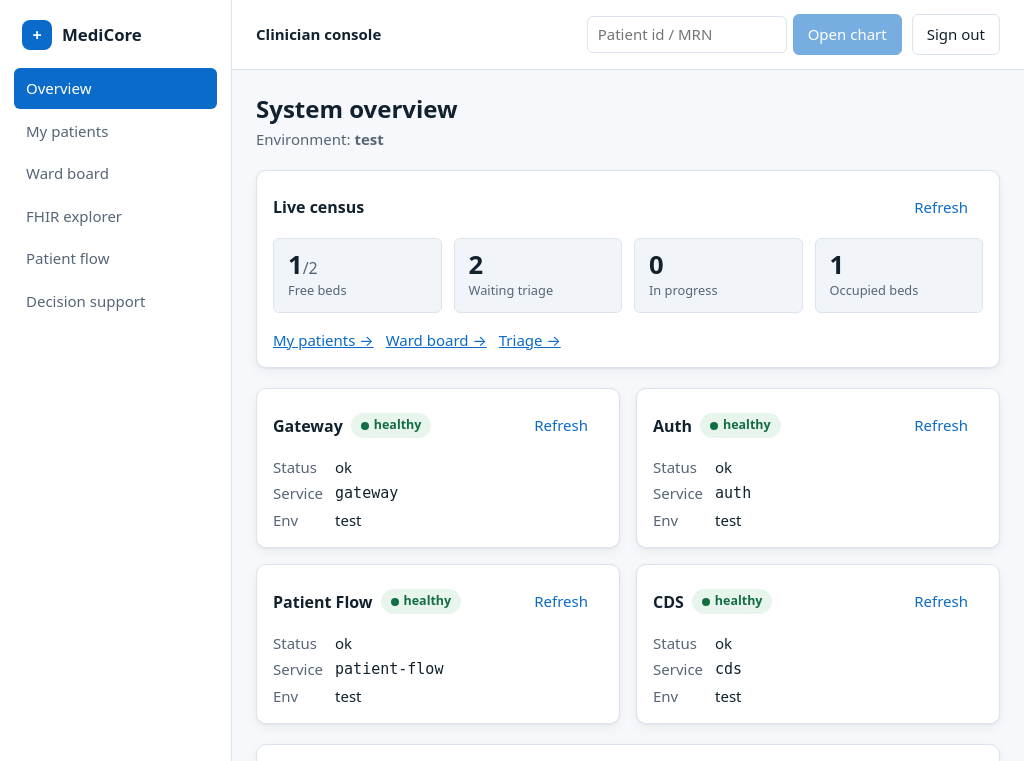
Test: navigation › signs out and returns to the login page
The image size is (1024, 761).
Click the button "Sign out" at (956, 34), box [912,14,1000,54]
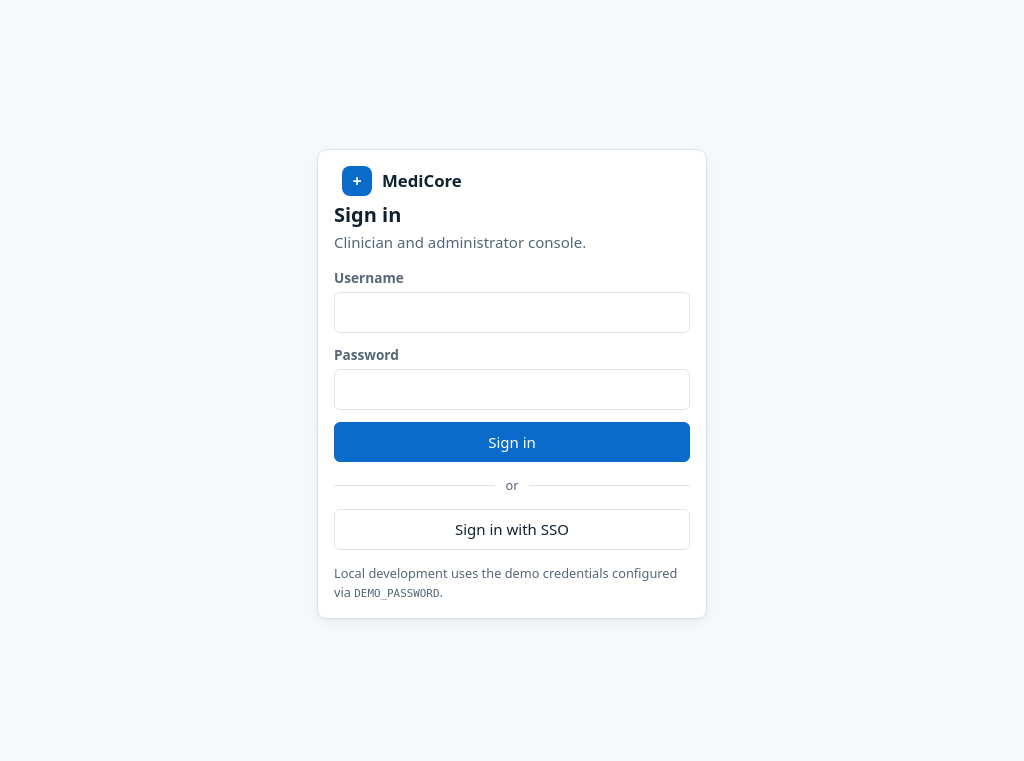
Expected: the heading "Sign in" is shown, [334,200,401,228]
